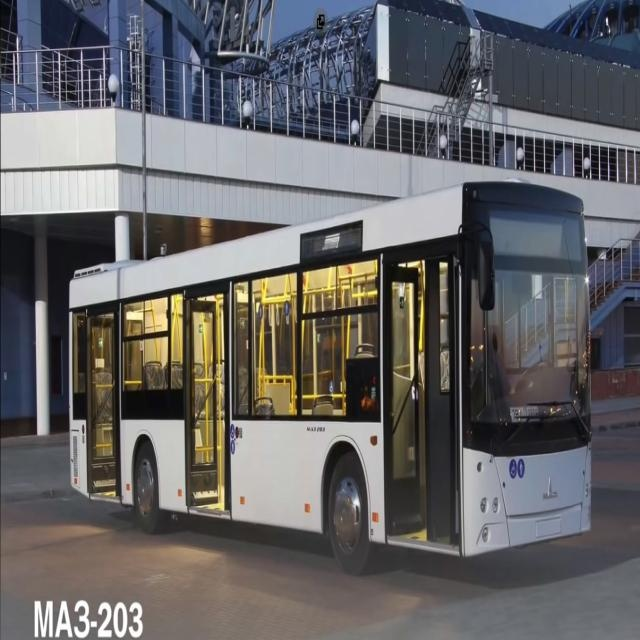Bus: (66, 175, 596, 582)
